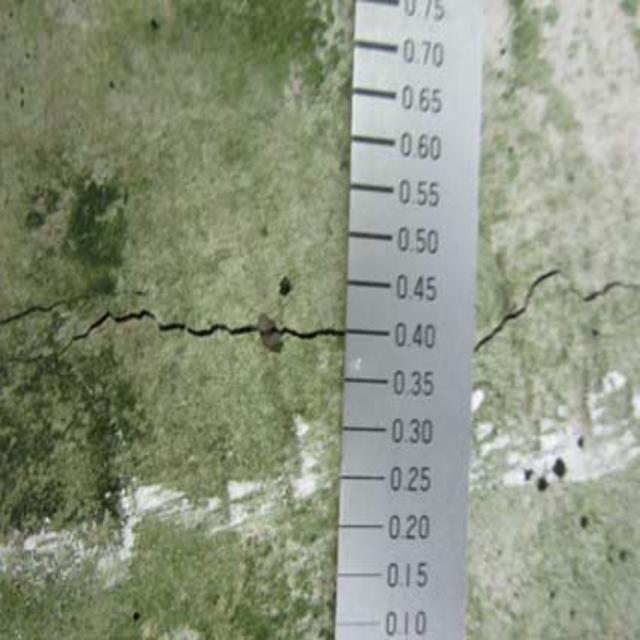crack: (1, 286, 346, 384), (479, 250, 637, 357)
